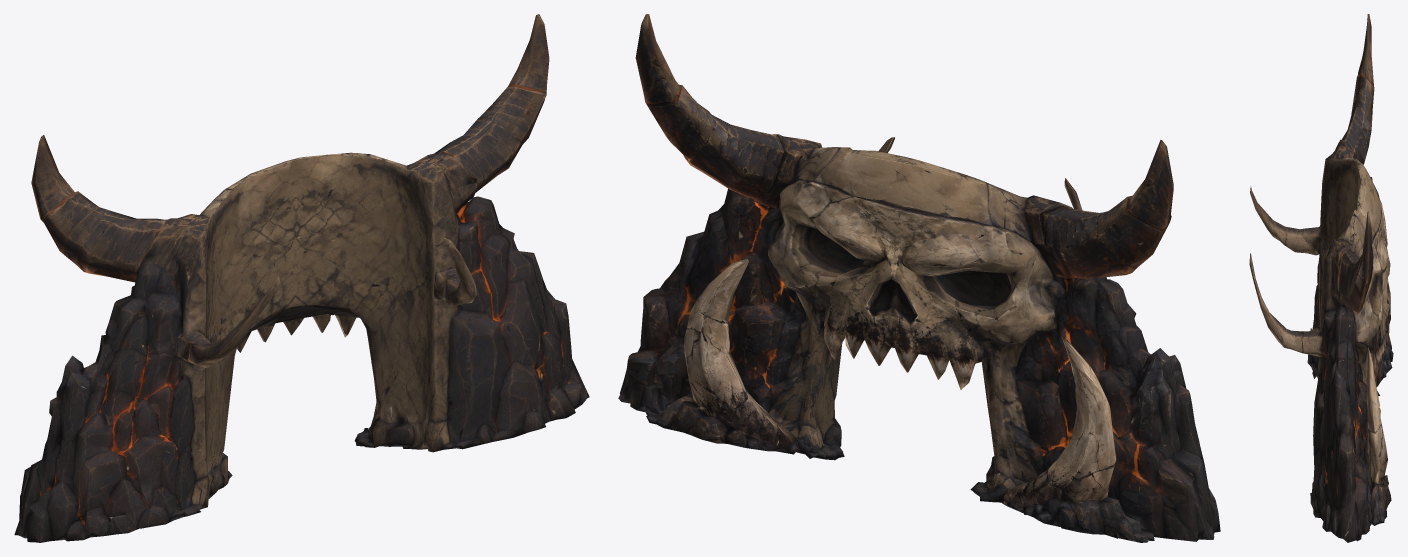
Rendered from maw_skull.glb.
3 views of the same model, side by side, from view 1: azimuth 30°, elevation 25°; view 2: azimuth 150°, elevation 25°; view 3: azimuth 270°, elevation 25° (orthographic). The views are drawn at different scales.
Visible parts, largest first — view 1: maw_skull; view 2: maw_skull; view 3: maw_skull.
Part boxes in pixels (box(x1,y1,x2,y2)): maw_skull: box(14, 14, 589, 542); maw_skull: box(618, 14, 1220, 542); maw_skull: box(1249, 14, 1393, 542).
Size of the model in its own units: 98.73 by 63.12 by 26.12.
Materials: 1 (1 with a texture image).
